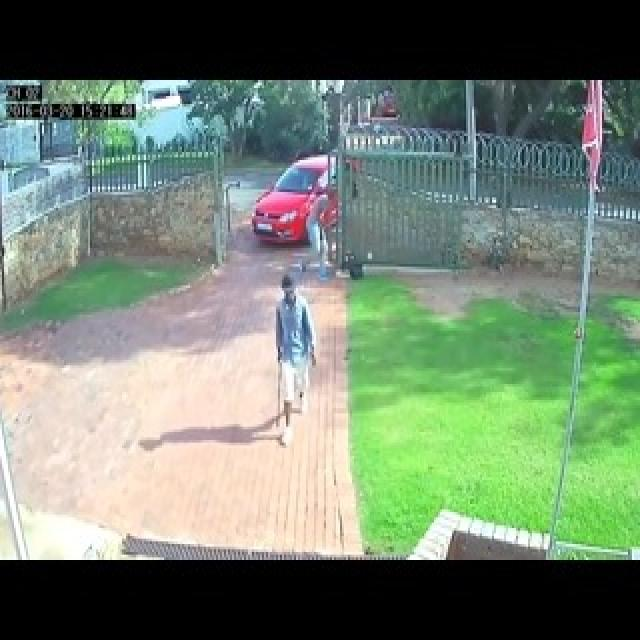thief: (263, 277, 308, 416)
